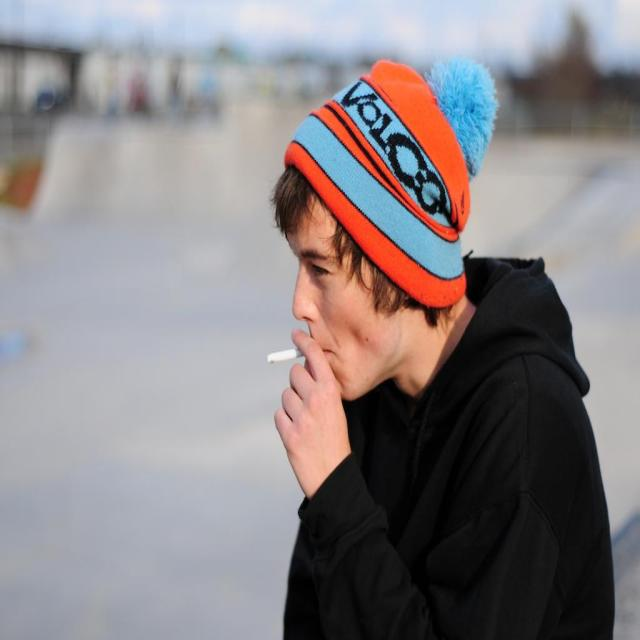Сигарета: (266, 348, 306, 364)
Тело: (272, 54, 616, 640)
